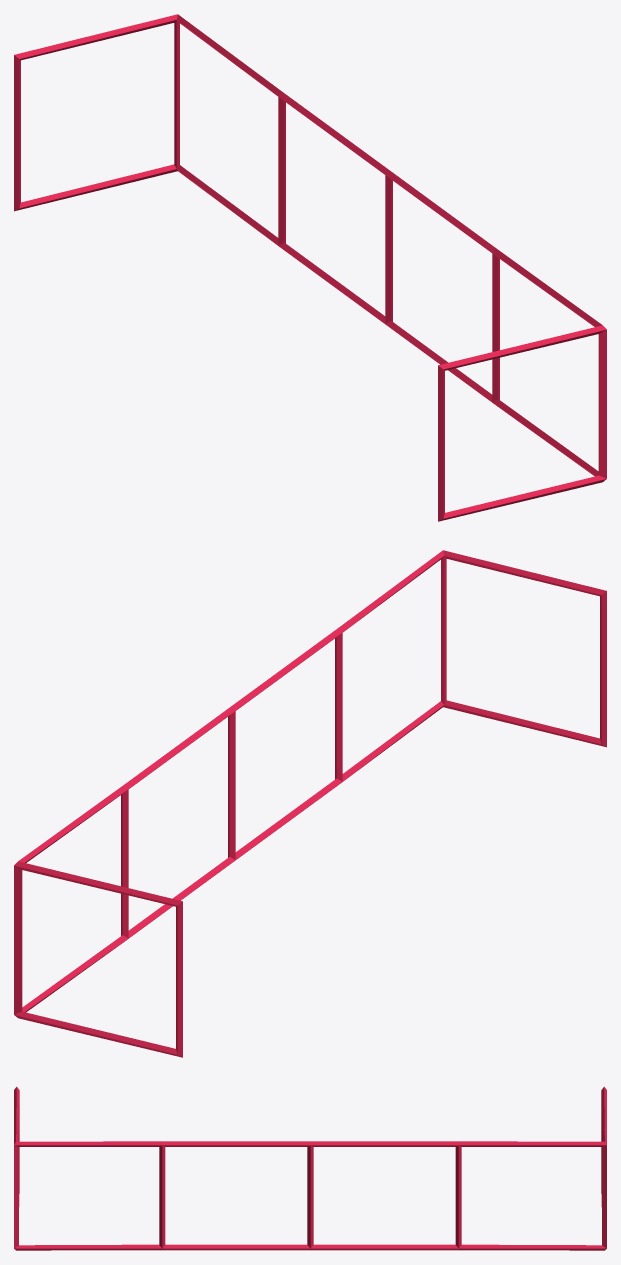
File: BuildingBlock_2_1_p2.fbx
3 views of the same model, one above another, from view 1: azimuth 30°, elevation 25°; view 2: azimuth 150°, elevation 25°; view 3: azimuth 270°, elevation 25° (orthographic). The views are drawn at different scales.
Visible parts, largest first — view 1: BuildingBlock_2_1_p2; view 2: BuildingBlock_2_1_p2; view 3: BuildingBlock_2_1_p2.
Part boxes in pixels (x1,y1,x2,y2): BuildingBlock_2_1_p2: [14, 14, 606, 521]; BuildingBlock_2_1_p2: [14, 550, 606, 1057]; BuildingBlock_2_1_p2: [14, 1086, 606, 1250].
Bounding box in the file's own units: 108 × 97.5 × 481.
